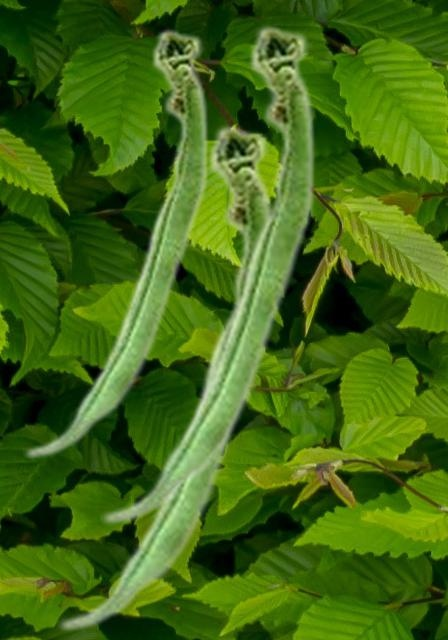french_bean: (57, 122, 274, 632), (100, 22, 315, 525), (23, 26, 208, 459)
